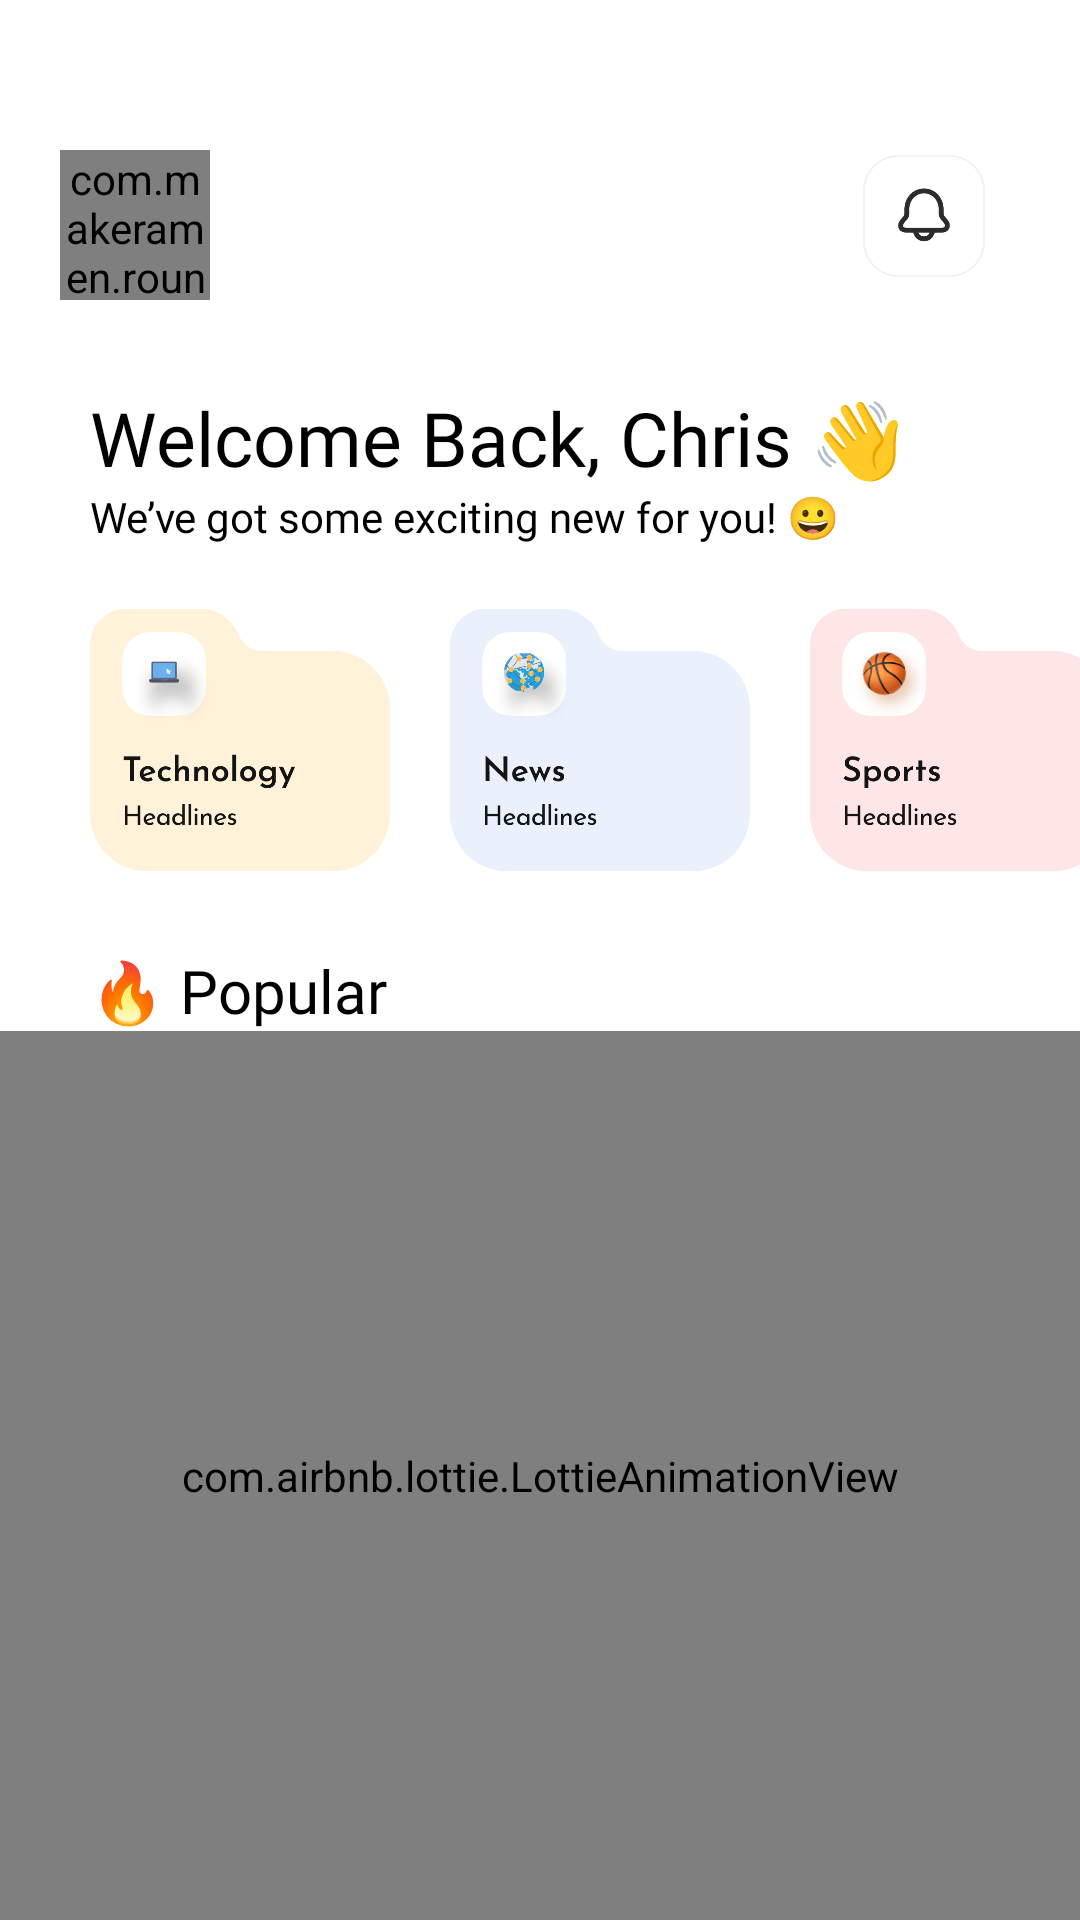

Screen size 1080*1920. Icon name, then its box in pixels as [left=x1, top=y1, right=x2, bottom=y2]:
notif: [left=898, top=188, right=950, bottom=241]
